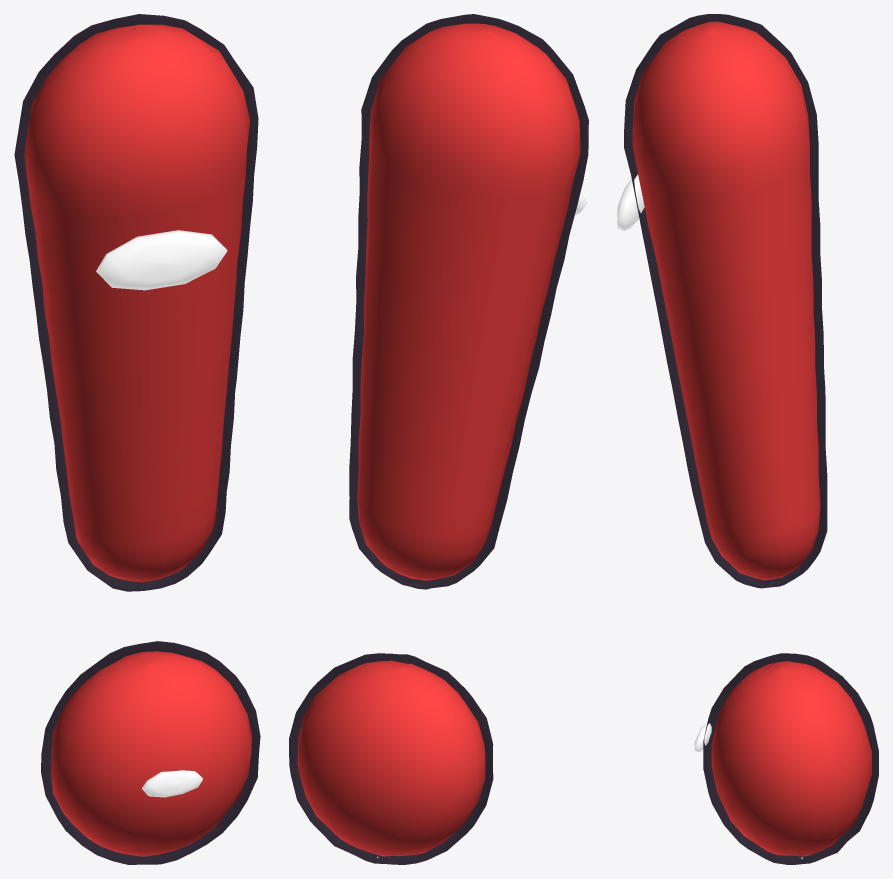
The model's file is vincentt-react-exclamation-pop.glb.
3 renders of one model, left to right at view 1: azimuth 30°, elevation 25°; view 2: azimuth 150°, elevation 25°; view 3: azimuth 270°, elevation 25°, orthographic. The views are drawn at different scales.
Visible parts, largest first — view 1: react_exclamation_pop_mark, react_exclamation_pop_mark_outline_mesh, react_exclamation_pop_mark_shine; view 2: react_exclamation_pop_mark, react_exclamation_pop_mark_outline_mesh; view 3: react_exclamation_pop_mark, react_exclamation_pop_mark_outline_mesh, react_exclamation_pop_mark_shine.
Boxes of the visible parts, x1=… form: react_exclamation_pop_mark: x1=24, y1=24, x2=252, y2=856; react_exclamation_pop_mark_outline_mesh: x1=14, y1=14, x2=260, y2=864; react_exclamation_pop_mark_shine: x1=96, y1=230, x2=227, y2=797; react_exclamation_pop_mark: x1=297, y1=23, x2=580, y2=856; react_exclamation_pop_mark_outline_mesh: x1=289, y1=14, x2=588, y2=864; react_exclamation_pop_mark: x1=632, y1=21, x2=871, y2=856; react_exclamation_pop_mark_outline_mesh: x1=624, y1=14, x2=878, y2=864; react_exclamation_pop_mark_shine: x1=617, y1=174, x2=711, y2=751.
Size of what is drawn, in the model's own units: 0.0109 by 0.0347 by 0.0102.
